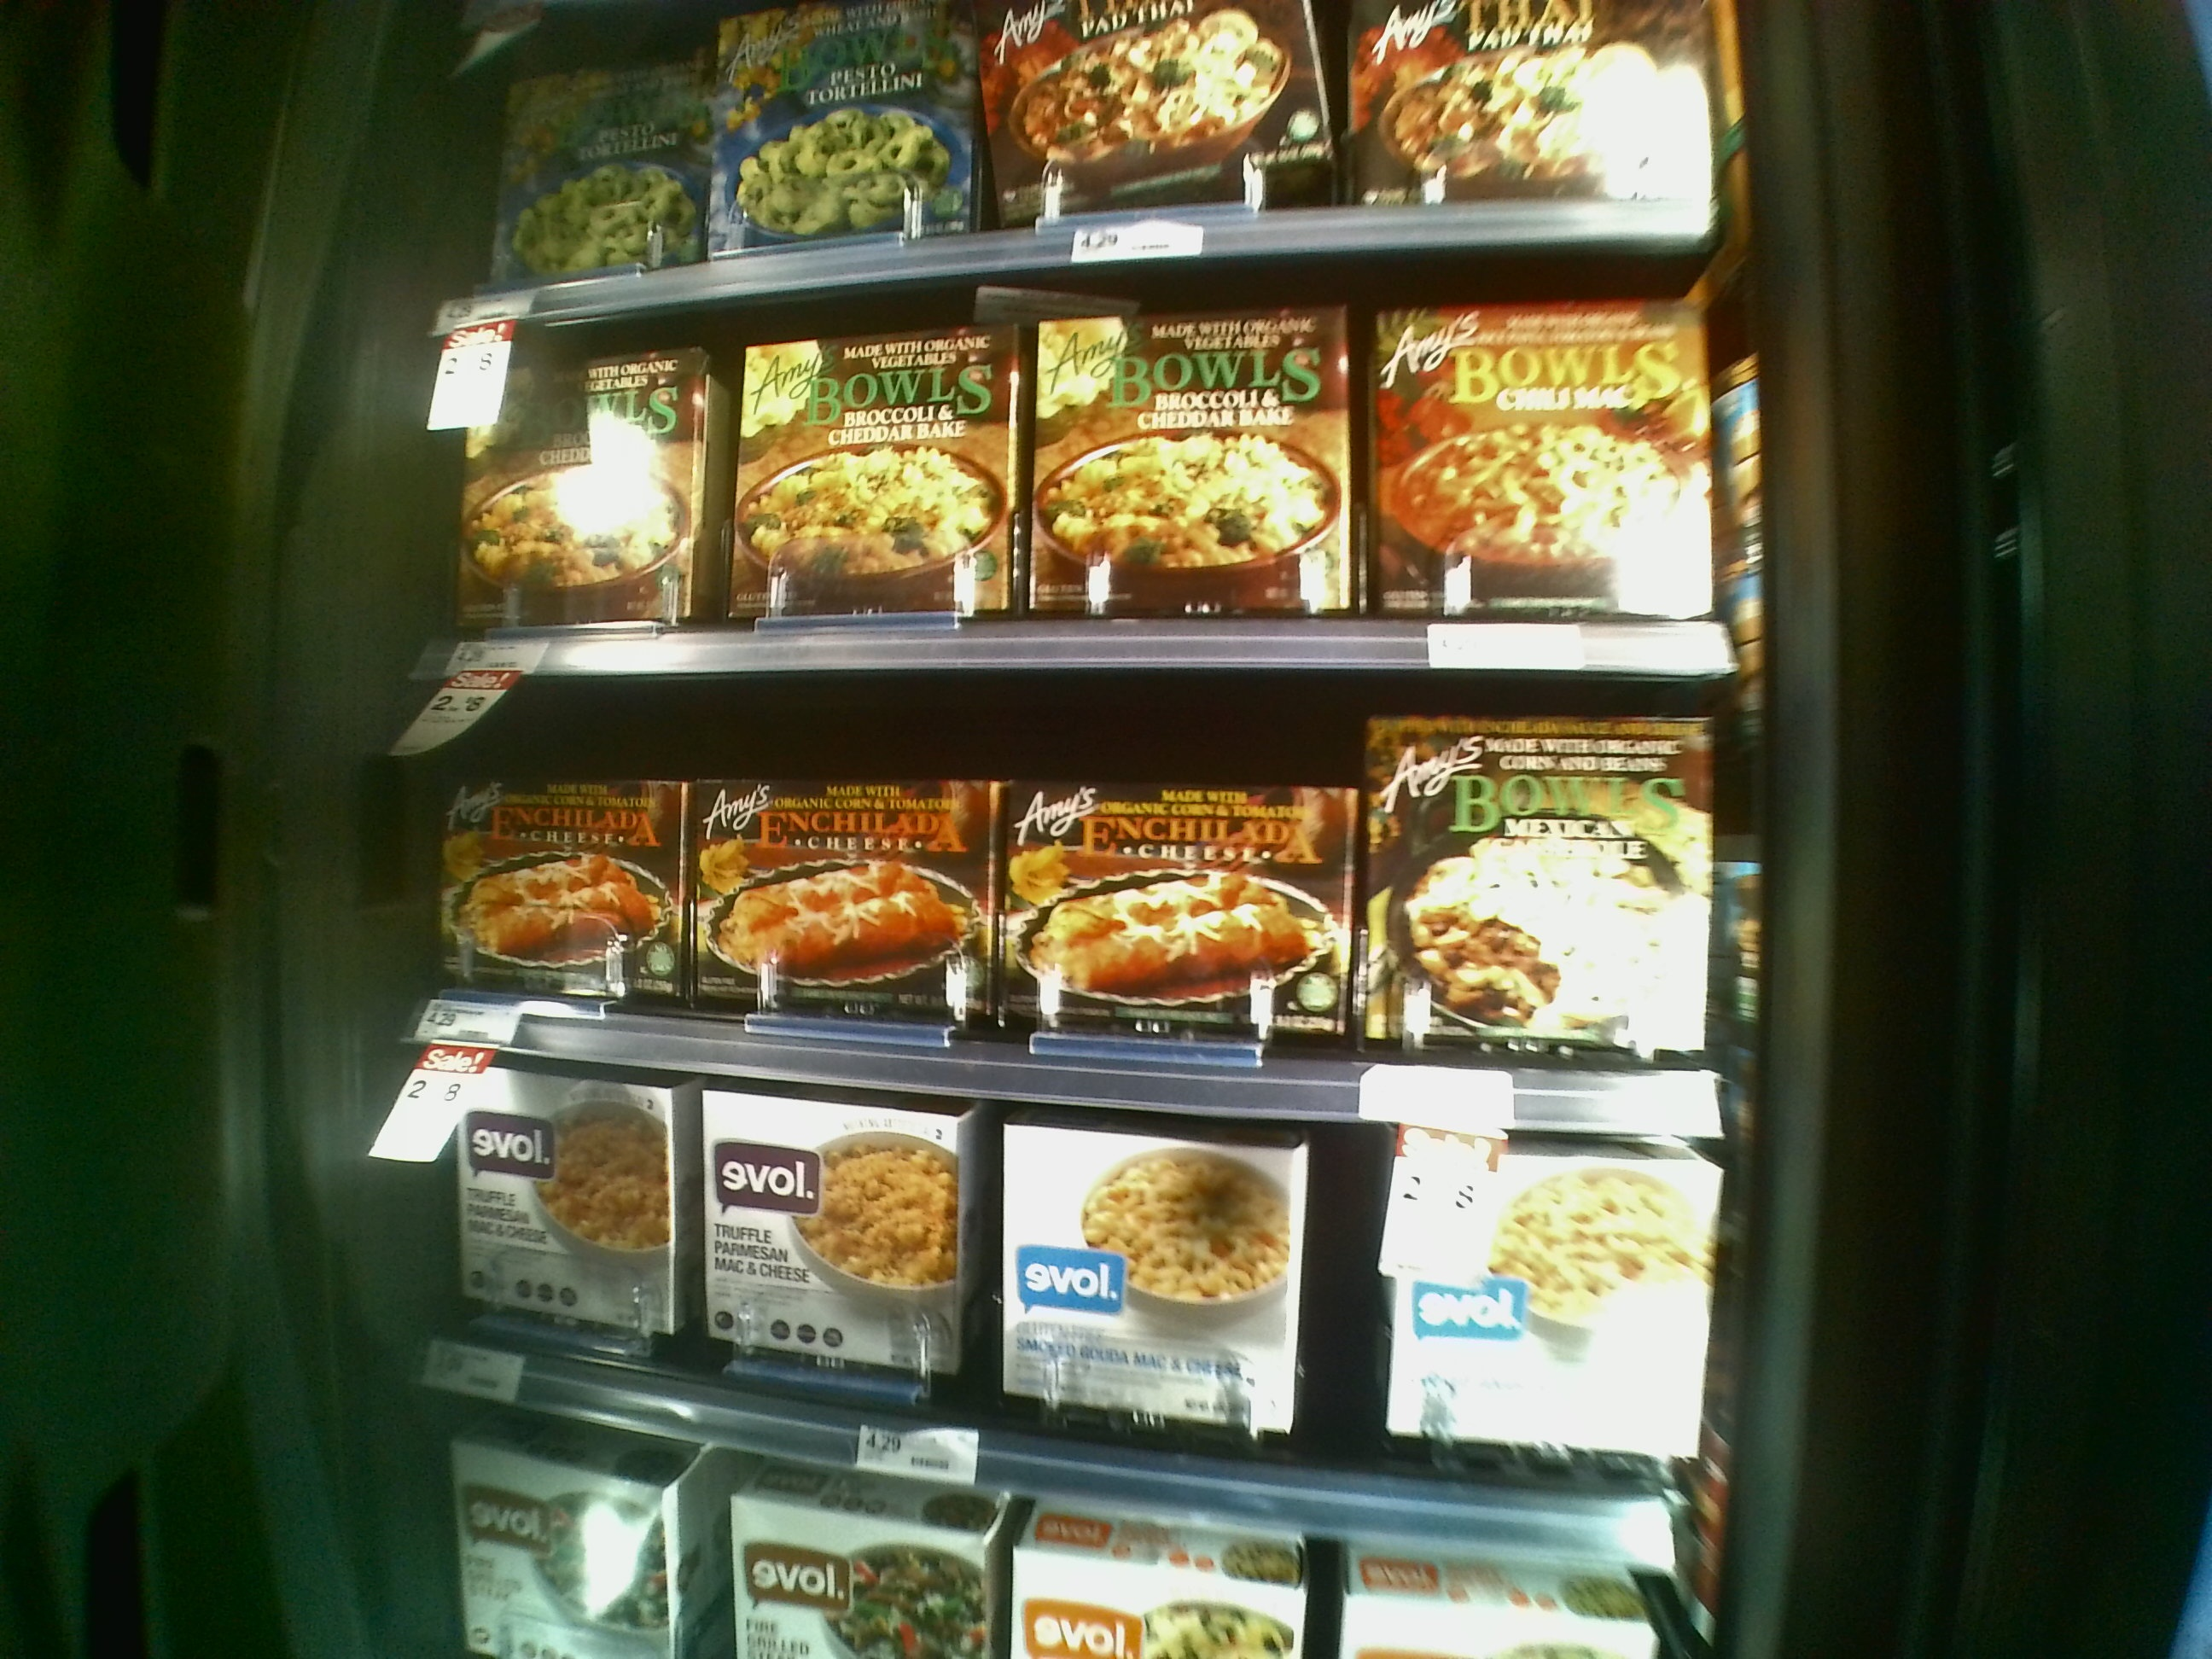shelf: (423, 1072, 1728, 1535), (425, 669, 1745, 1110), (435, 256, 1745, 673)
